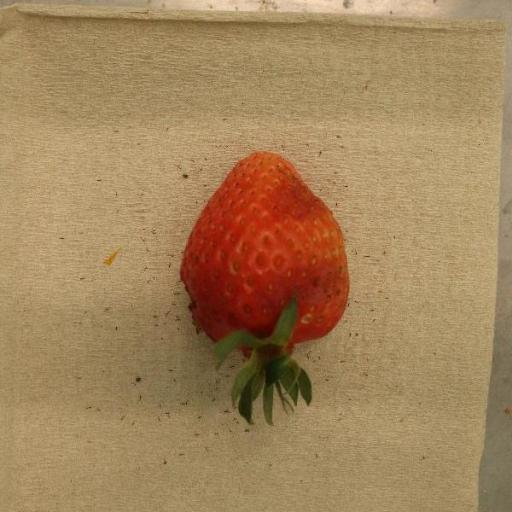Strawberry: (180, 151, 349, 427)
